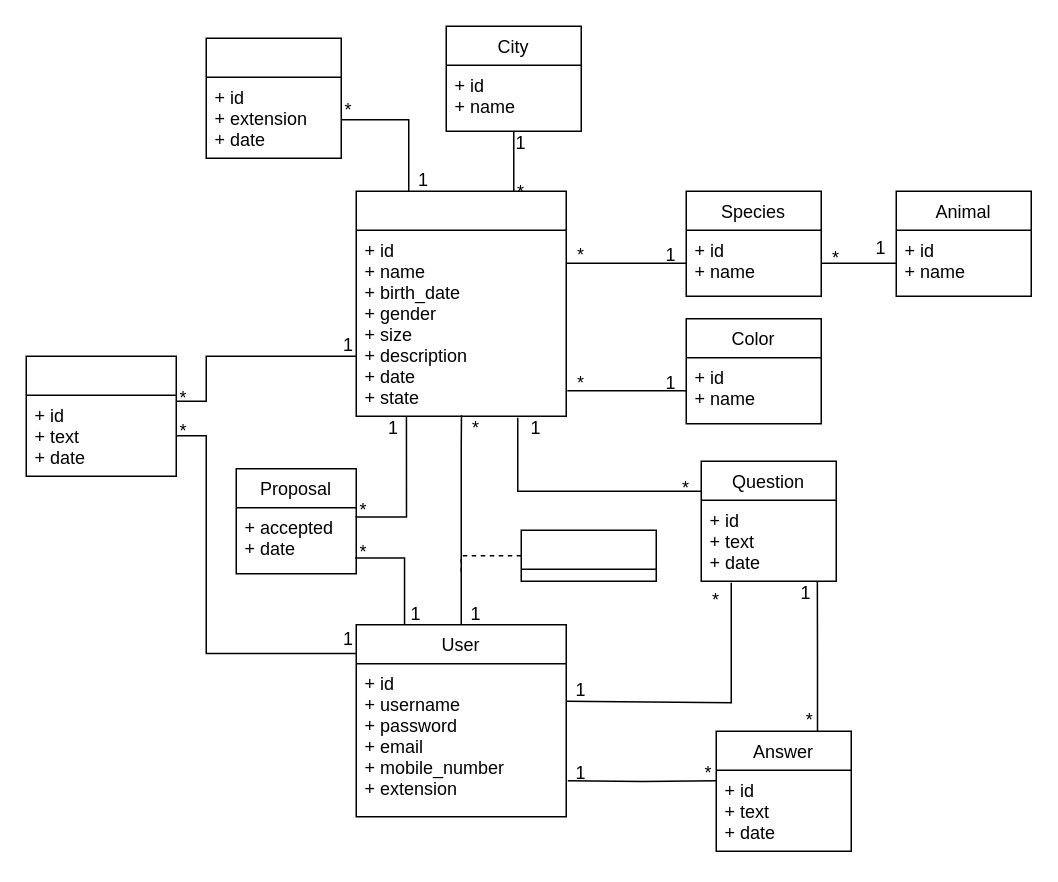
The diagram is 1058 pixels wide and 882 high, and some of its shapes have lost their labels. The shapes that lost their labels are listed below. From the top down, each one's box as (x1, y1, x2, y2) in pixels, then its label:
(205, 37, 341, 158): PetPhoto
(355, 190, 566, 416): PetPost
(25, 355, 176, 476): Comment
(520, 529, 656, 581): Favourite
